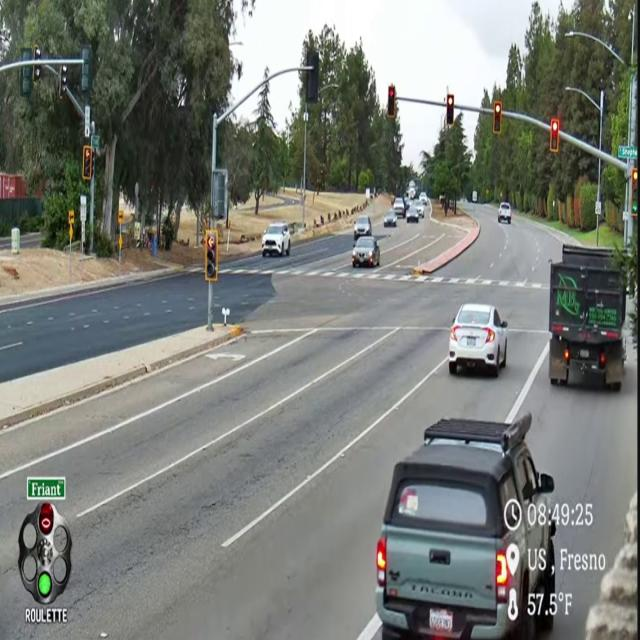car: (376, 413, 557, 639), (449, 304, 507, 376), (262, 223, 290, 256), (352, 237, 379, 268), (354, 216, 372, 239), (392, 196, 407, 217), (498, 202, 511, 223), (383, 209, 397, 227), (406, 204, 419, 223), (415, 201, 424, 218), (419, 192, 427, 204)
traffic signal: (306, 50, 319, 103), (205, 230, 218, 281), (39, 503, 54, 535), (81, 46, 91, 93), (82, 145, 94, 181), (20, 66, 32, 97), (387, 85, 396, 119), (59, 65, 68, 99), (493, 101, 502, 135), (550, 119, 559, 152), (631, 168, 637, 216), (446, 95, 454, 126), (33, 64, 41, 81)
truck: (549, 244, 626, 391), (408, 186, 415, 199)
